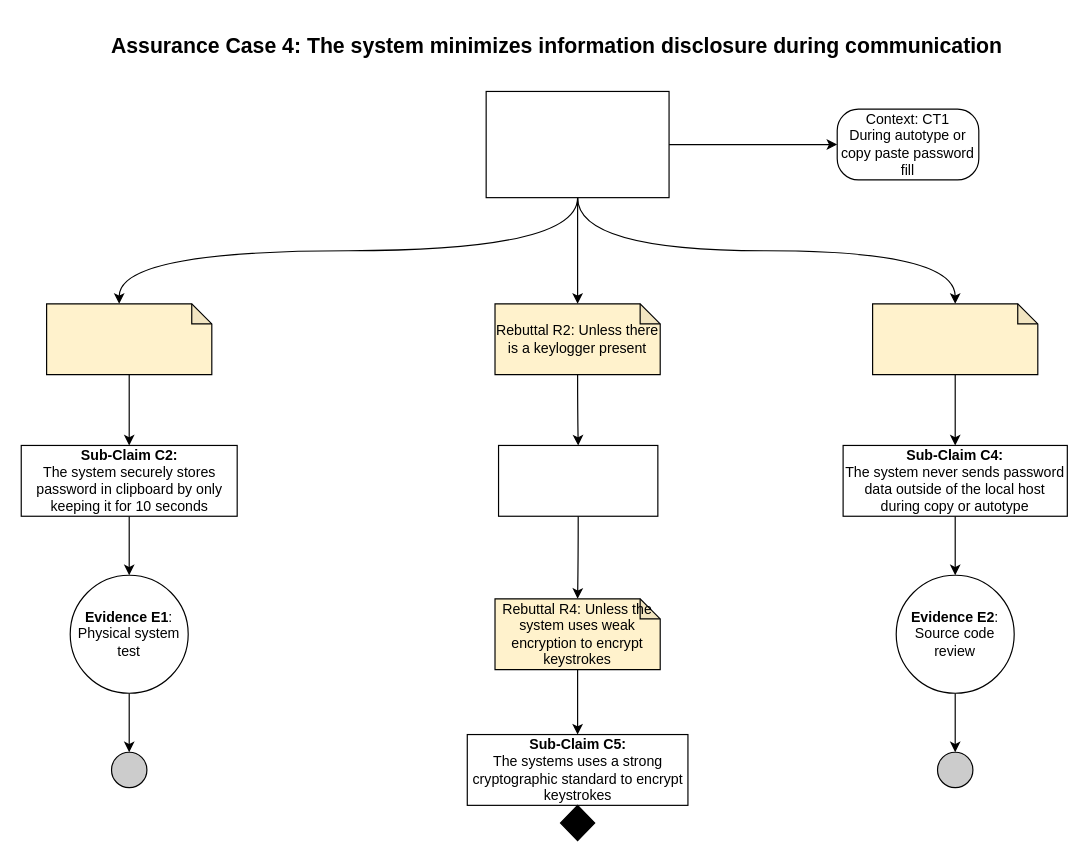
Some shapes in this 1088 by 861 pixel diagram are drawn without their labels. Here are the shapes that lost their labels. From the top down, the box of each, then its label:
(485, 90, 669, 198): Top-Claim C1: The system minimizes data disclosure during communication
(45, 303, 212, 375): Rebuttal R1: Unless The system stores password in clipboard
(871, 303, 1038, 375): Rebuttal R3: Unless the data is intercepted during retrieval
(497, 444, 658, 516): Sub-Claim C3: The system encrypts the keystrokes for autotype
